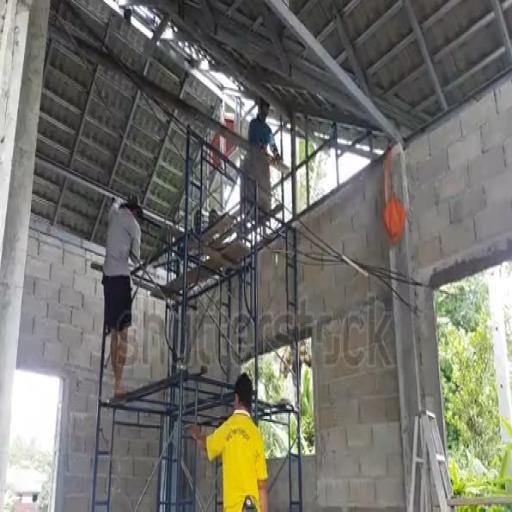Helmet-Detection: (235, 373, 257, 411), (121, 194, 147, 222), (254, 96, 269, 120)
